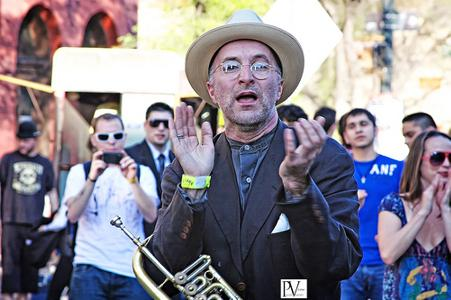person: (153, 40, 368, 300)
